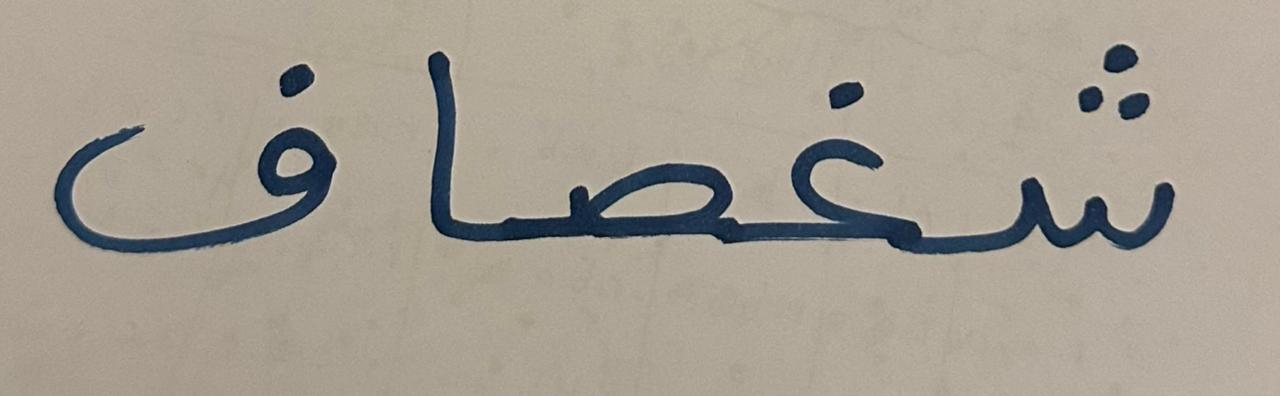alef: (387, 6, 517, 296)
feh: (30, 13, 383, 302)
ghain: (760, 4, 944, 327)
seen: (522, 48, 757, 319)
tah: (948, 6, 1205, 312)
